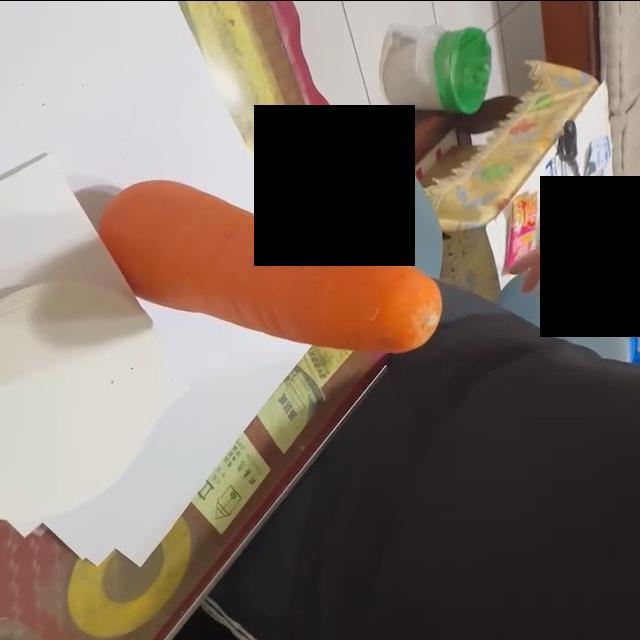carrot: (93, 179, 447, 356)
